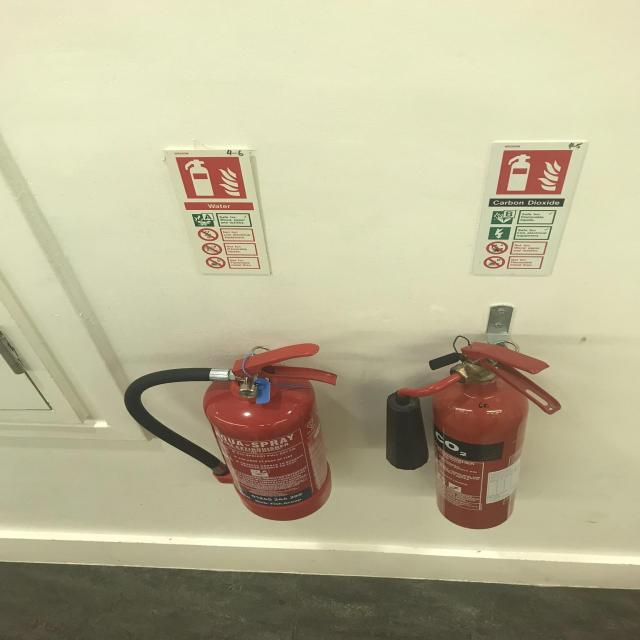fire_extinguisher: (121, 341, 342, 523), (382, 339, 566, 531)
